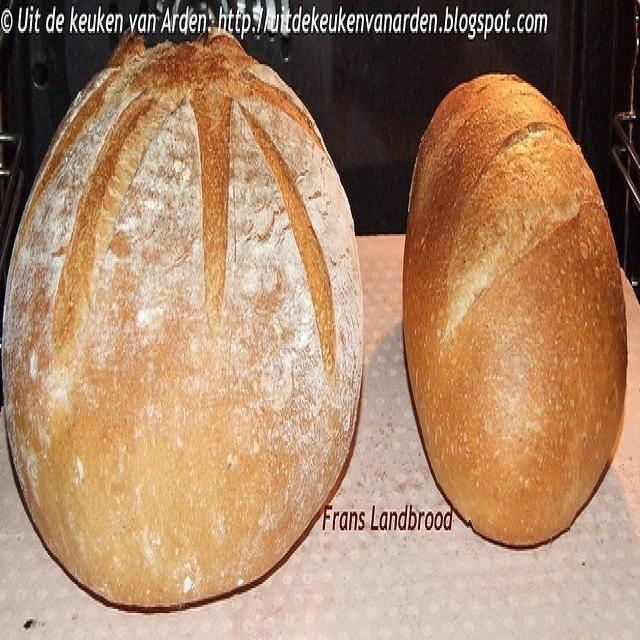Bread: (4, 44, 372, 616), (398, 55, 630, 562)
